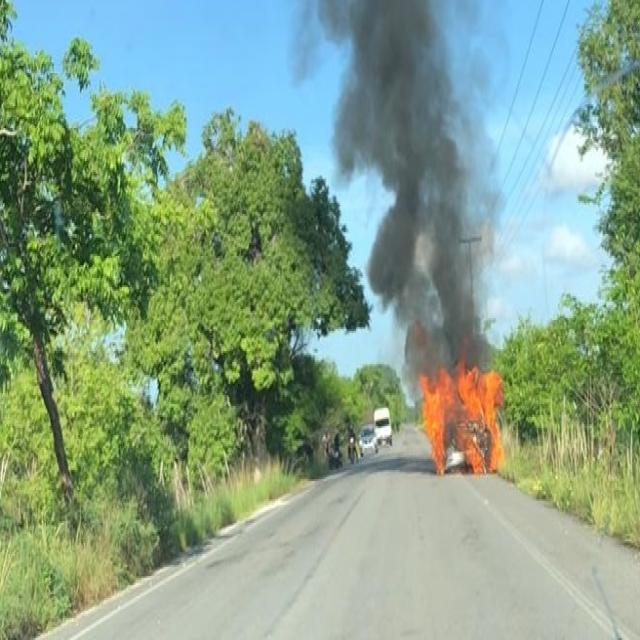Fire: (422, 365, 507, 482), (456, 336, 470, 364), (413, 321, 426, 346)
Smoke: (290, 0, 500, 318), (430, 321, 454, 362), (470, 321, 491, 364), (402, 328, 412, 401)
